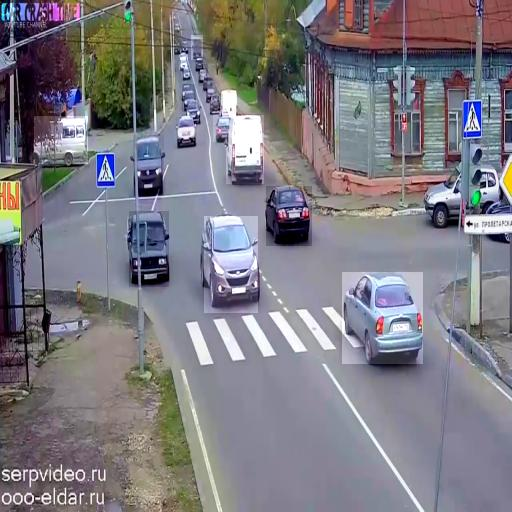小汽车: (342, 272, 423, 364), (204, 216, 258, 313), (426, 163, 500, 227), (129, 212, 169, 288), (266, 186, 312, 246), (226, 115, 264, 184), (34, 116, 88, 164), (133, 135, 164, 196), (176, 117, 197, 145), (213, 112, 230, 142), (182, 84, 196, 110), (191, 35, 203, 60), (198, 64, 208, 86), (210, 94, 223, 110), (179, 54, 188, 70)
